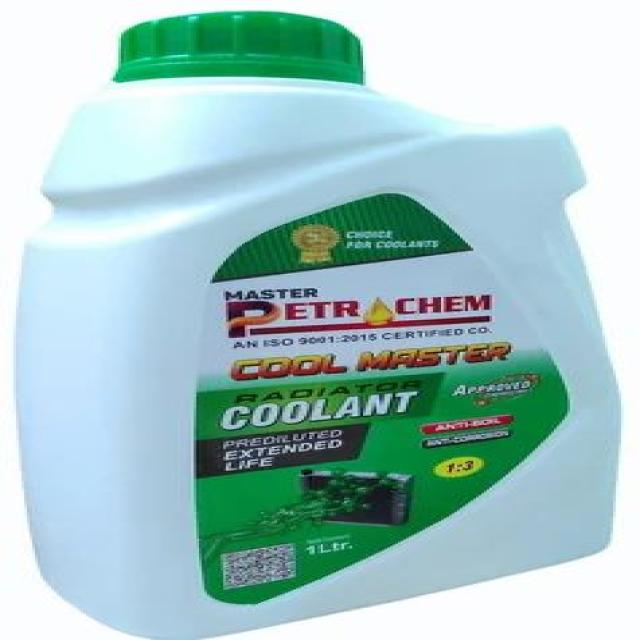coolant: (22, 6, 638, 640)
